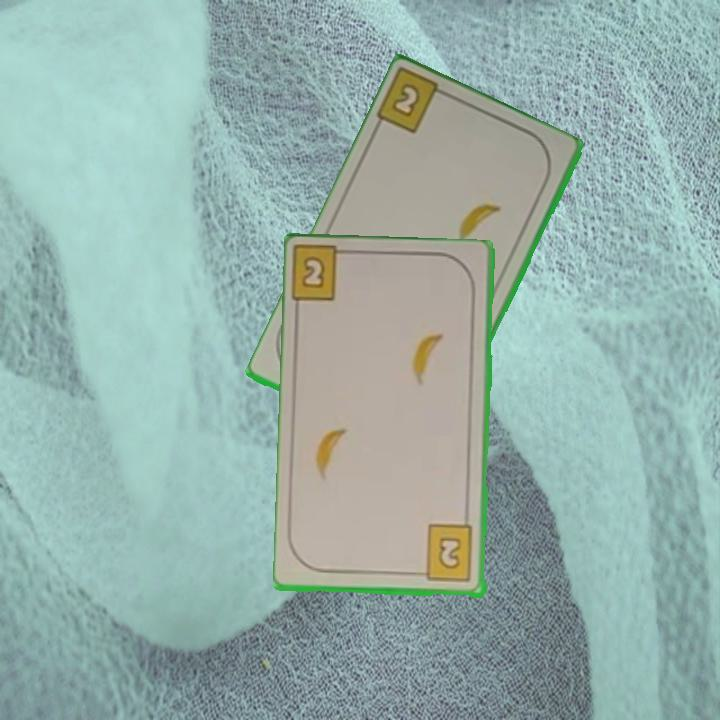2b: (374, 68, 456, 137), (291, 245, 358, 306), (414, 522, 476, 585)
